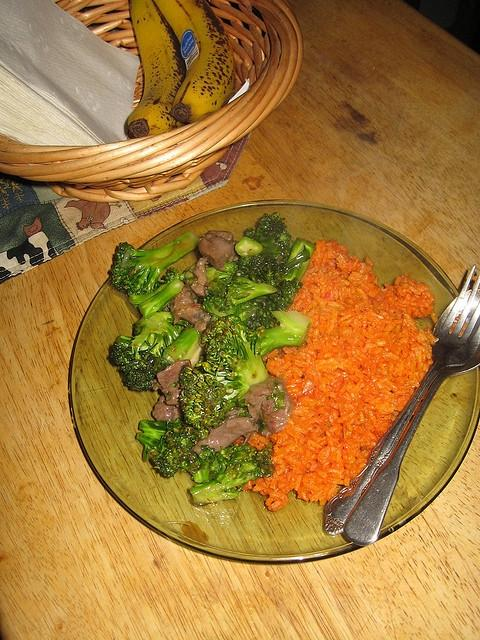banana: (154, 0, 236, 123), (127, 0, 188, 138)
broccoli: (178, 314, 270, 431), (248, 238, 316, 330), (110, 230, 200, 295), (109, 311, 180, 392), (190, 442, 262, 506), (235, 212, 294, 282), (136, 416, 199, 478), (154, 444, 221, 484), (260, 310, 312, 357), (128, 279, 184, 319), (163, 318, 200, 365), (226, 277, 278, 306), (204, 260, 239, 298), (201, 295, 237, 321), (248, 294, 272, 308)
